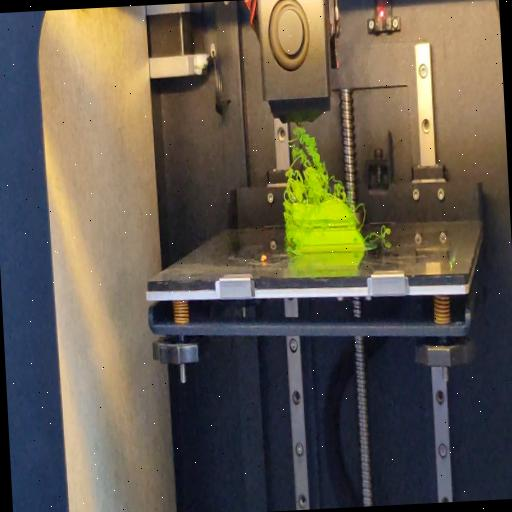spaghetti: (279, 118, 347, 206), (281, 204, 297, 252), (362, 224, 392, 244), (354, 199, 368, 233)
